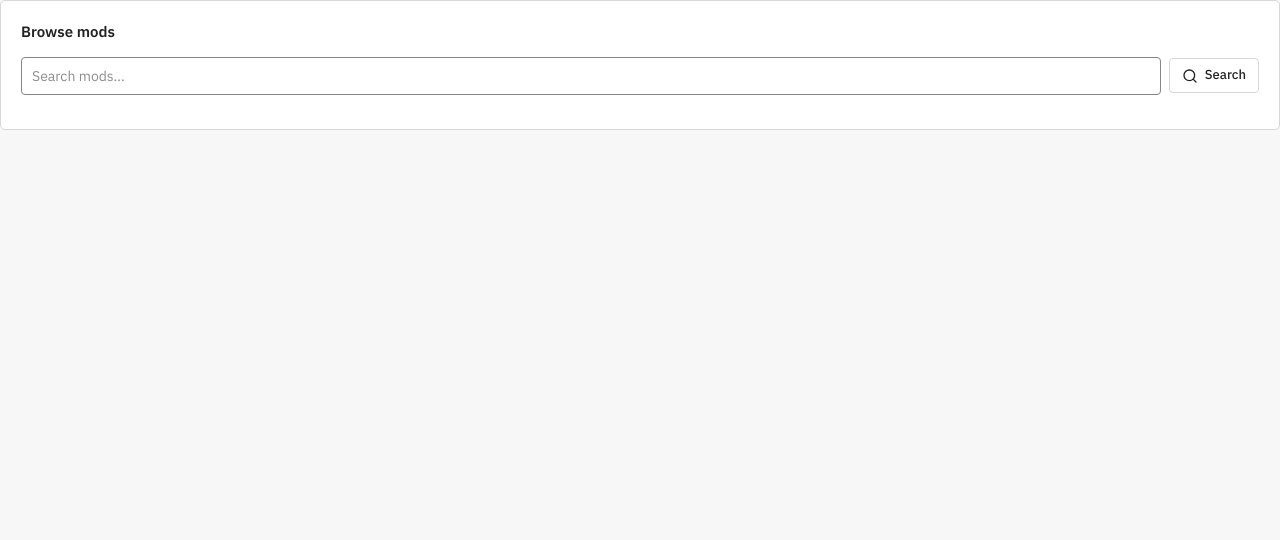
it: locks mod selection while enqueueing and unlocks after acceptance
Submit the form named "Search ModDB", box [21,57,1259,95]
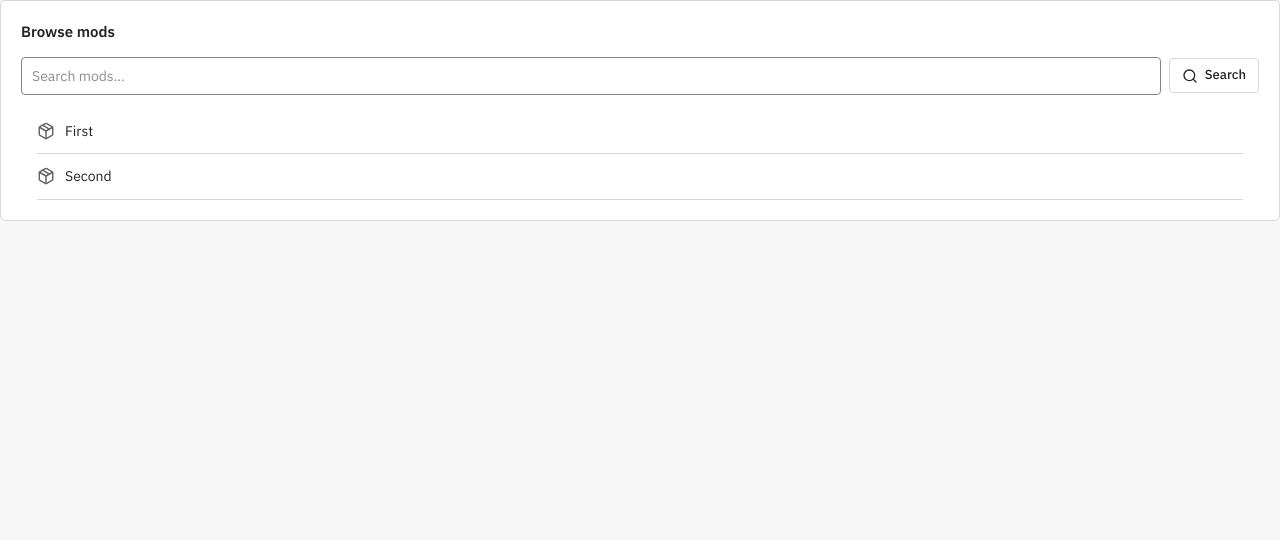
Check: the button "First" is shown
Click the button "First": (46, 131) [37,109,1243,154]
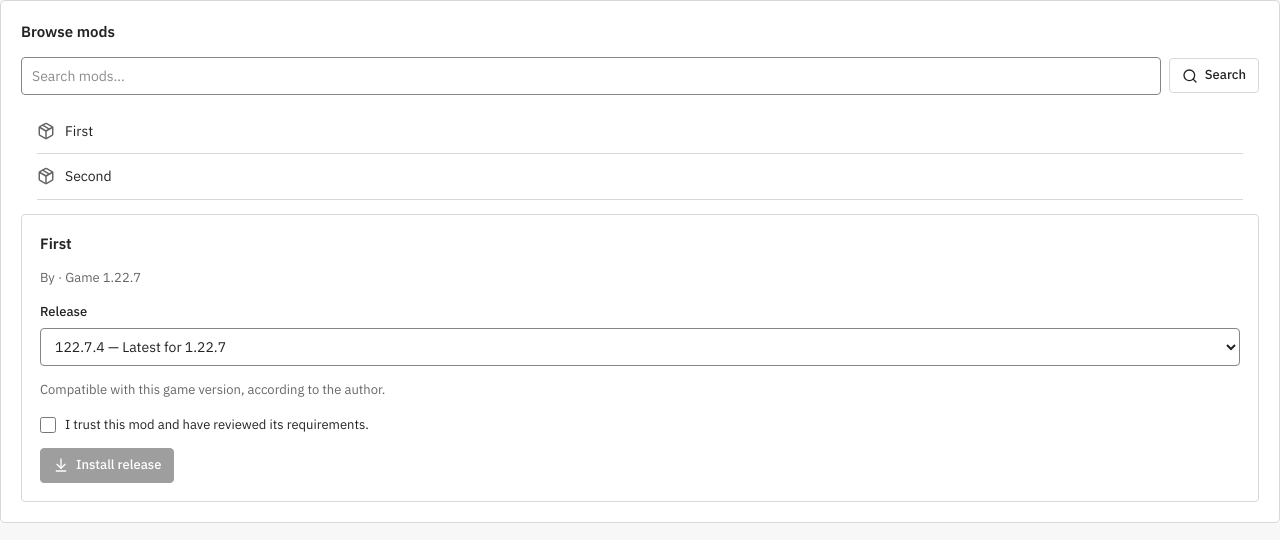
Check: the dropdown labelled "Release" is shown, box [40,328,1240,366]
Click the checkbox labelled "I trust this mod and have reviewed its requirements.": (48, 424) [40,416,56,432]
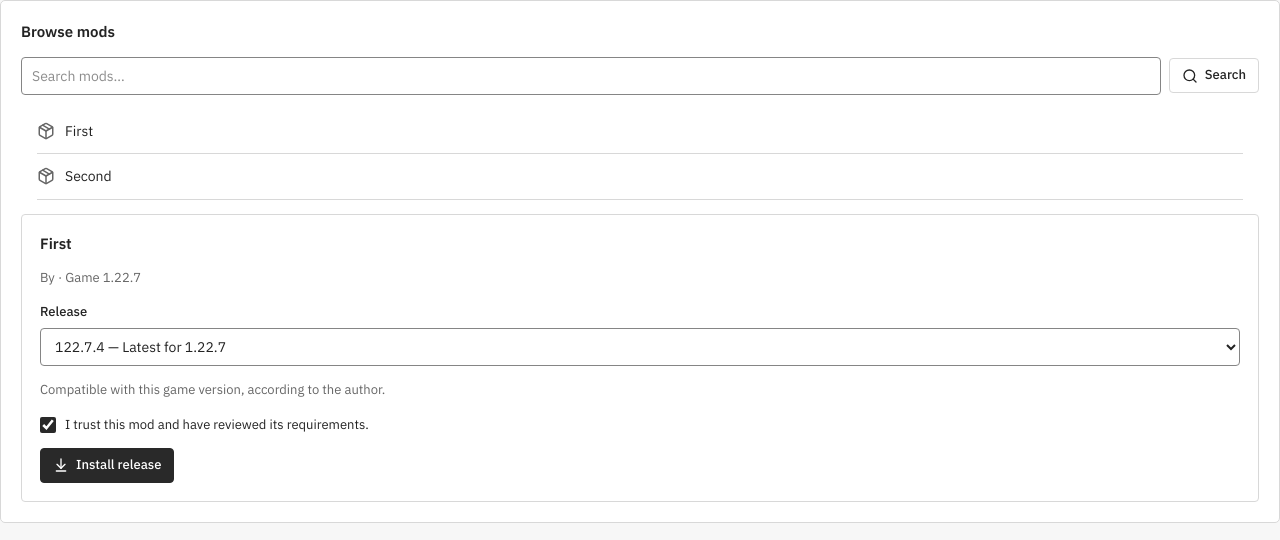
Click the button "Install release": (107, 465) [40,448,174,483]
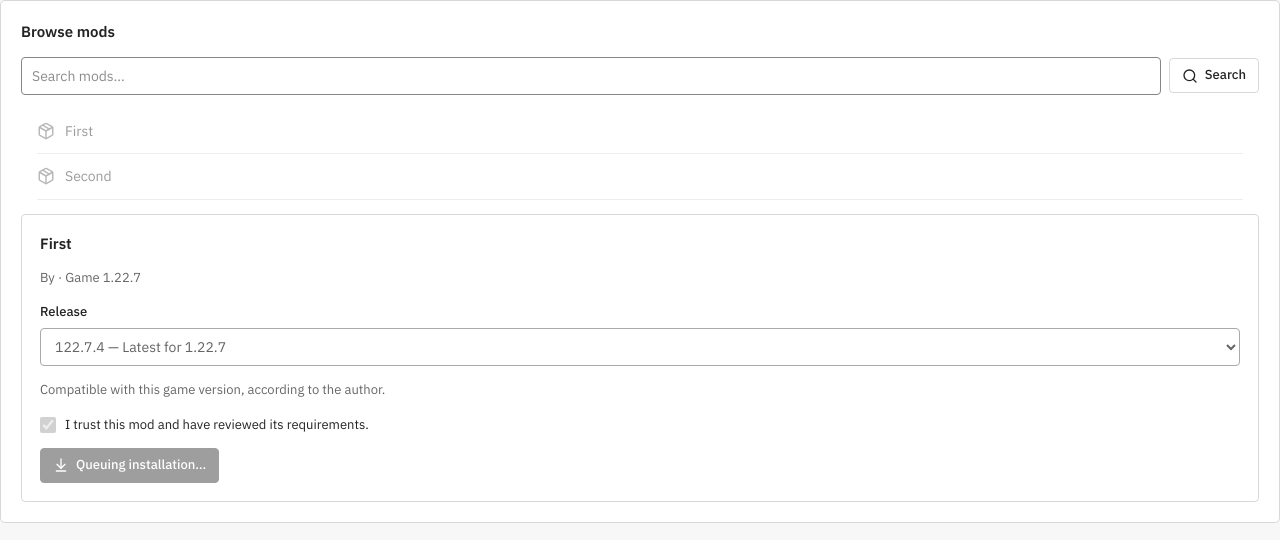
Check: the button "Second" is disabled
Click the button "Second": (88, 176) [37,154,1243,200]
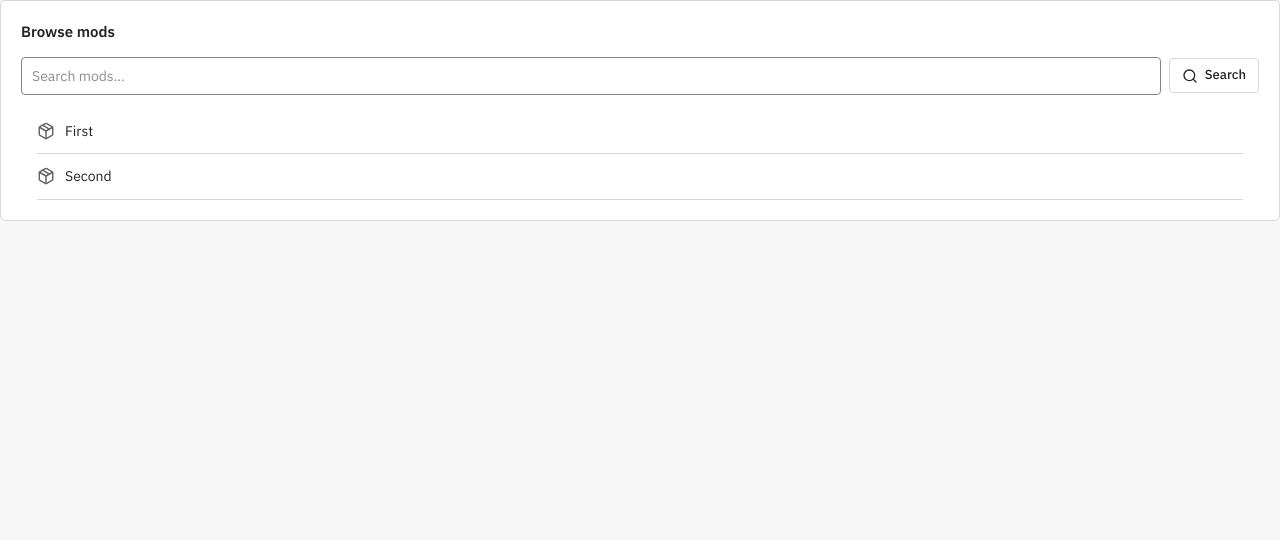
Check: the text labelled "Release" is gone
Check: the button "Second" is enabled, box [37,154,1243,200]
